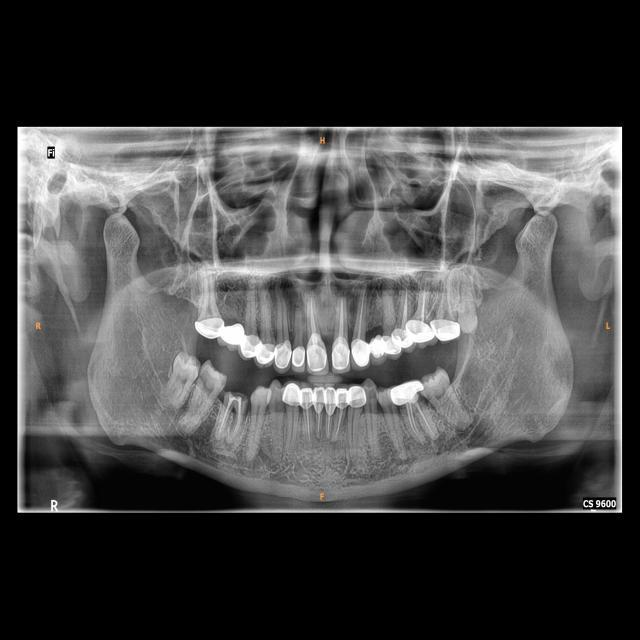dentin-curugu: (200, 372, 212, 386)
kanal-tedavisi: (406, 401, 432, 439), (220, 395, 244, 435), (306, 294, 321, 338), (354, 291, 368, 337), (336, 299, 349, 338), (417, 283, 428, 320), (399, 286, 410, 322), (316, 406, 324, 439), (303, 408, 311, 440), (336, 408, 344, 440), (326, 409, 331, 441)
kaplama: (431, 315, 460, 342), (306, 334, 326, 372), (390, 381, 424, 402), (407, 320, 432, 344), (193, 314, 220, 336), (350, 339, 370, 368), (333, 338, 351, 368), (394, 323, 414, 350), (220, 324, 243, 346), (383, 332, 402, 356), (283, 381, 301, 406), (257, 342, 277, 364), (347, 384, 366, 407), (273, 342, 291, 366), (244, 332, 260, 357), (299, 384, 314, 409), (312, 384, 327, 408), (291, 345, 306, 367), (326, 386, 336, 412), (336, 388, 348, 408)
kopru: (368, 325, 389, 368)
